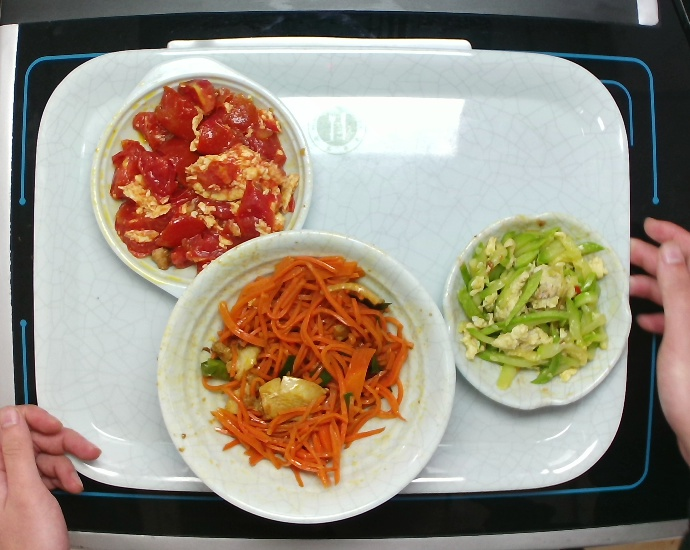JYsf-Ao_Yuan_Wan: (437, 209, 635, 408)
JYsf-Shuang_Er_Pan: (89, 52, 314, 303)
JYsf-Xiao_Tang_Wan: (157, 227, 457, 523)
